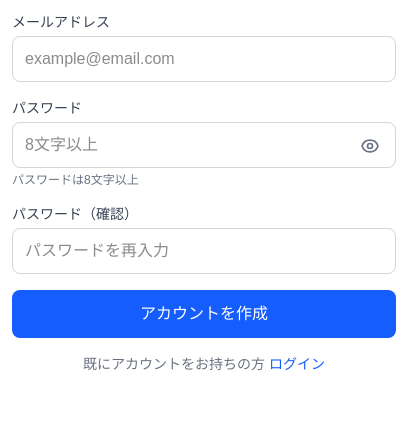
Test: SignupForm › should show error when passwords do not match
The width and height of the screenshot is (415, 448).
Step 1. Type "test@example.com" into the field labelled "メールアドレス" → (204, 59), box [12,36,396,82]
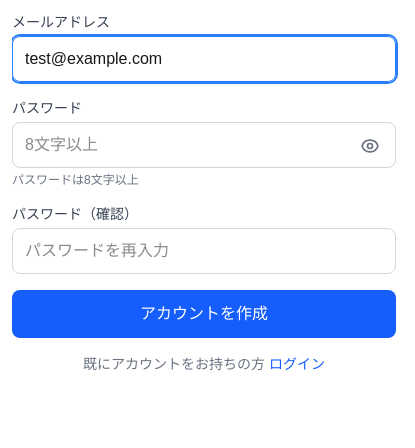
Step 2. Type "password123" into the password field labelled "パスワード" → (204, 145), box [12,122,396,168]
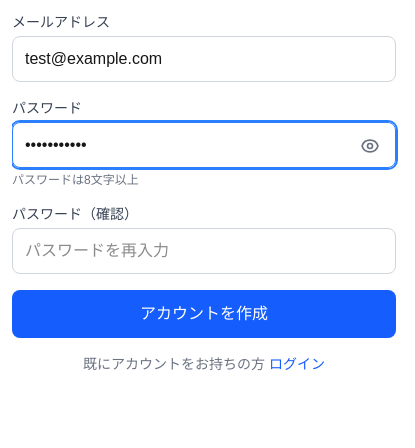
Step 3. Type "different123" into the password field labelled "パスワード（確認）" → (204, 251), box [12,228,396,274]
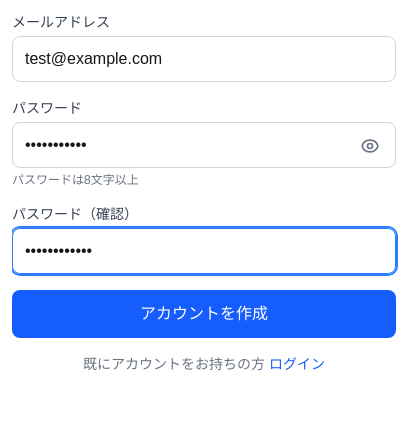
Step 4. Click the button "アカウントを作成" → (204, 314), box [12,290,396,338]
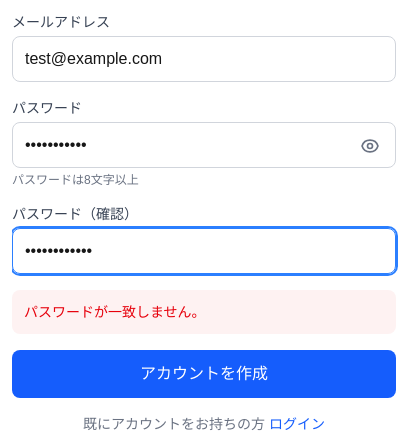
Now the text "パスワードが一致しません。" is shown, box [12,290,396,334]
